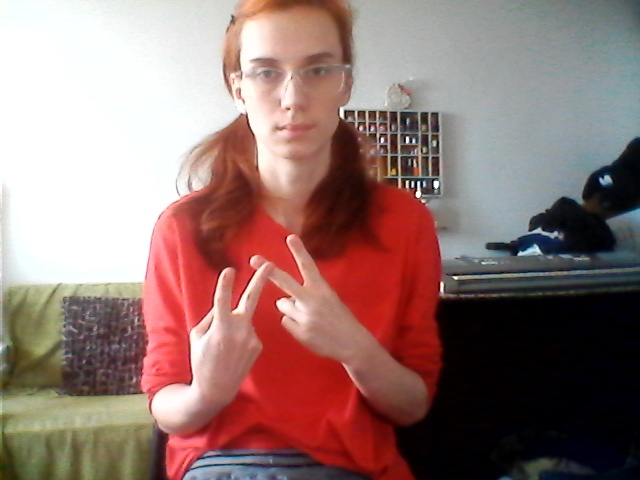w: (180, 230, 365, 381)
